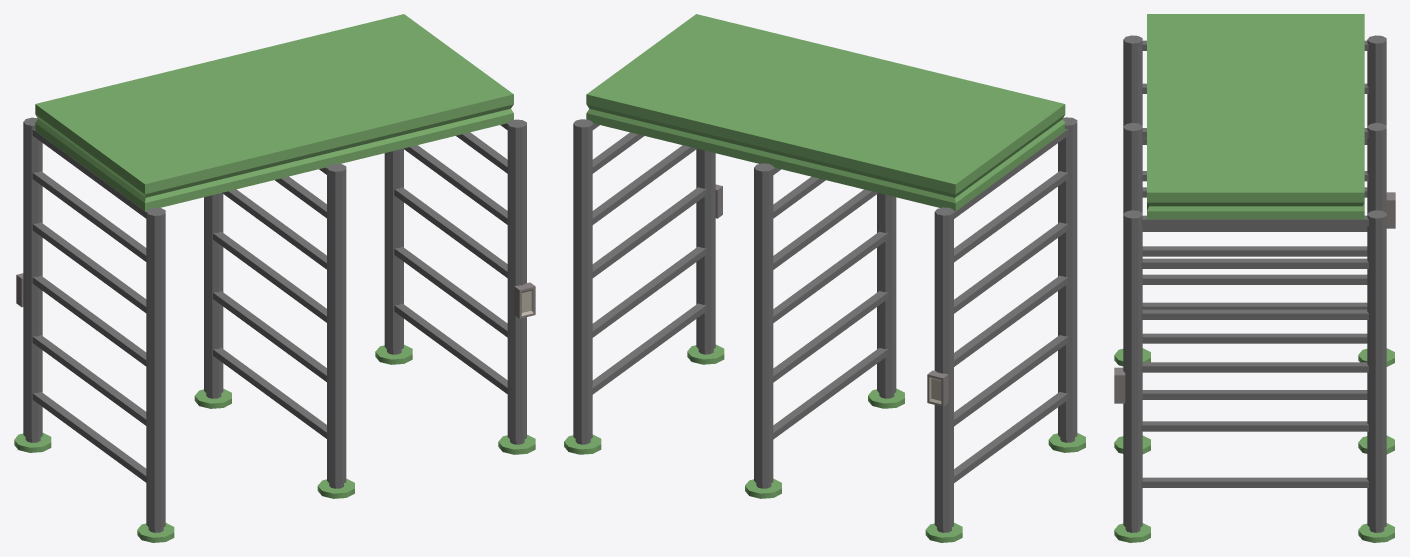
File: SM_Barrier_07.fbx
3 views of the same model, side by side, from view 1: azimuth 30°, elevation 25°; view 2: azimuth 150°, elevation 25°; view 3: azimuth 270°, elevation 25° (orthographic).
Parts seen in each view (by area): view 1: SM_Barrier_07; view 2: SM_Barrier_07; view 3: SM_Barrier_07.
Boxes of the visible parts, box(x1,y1,x2,y2) form: SM_Barrier_07: box(14, 14, 535, 542); SM_Barrier_07: box(564, 14, 1085, 542); SM_Barrier_07: box(1114, 14, 1395, 542).
Bounding box in the file's own units: 371 × 312 × 231.
